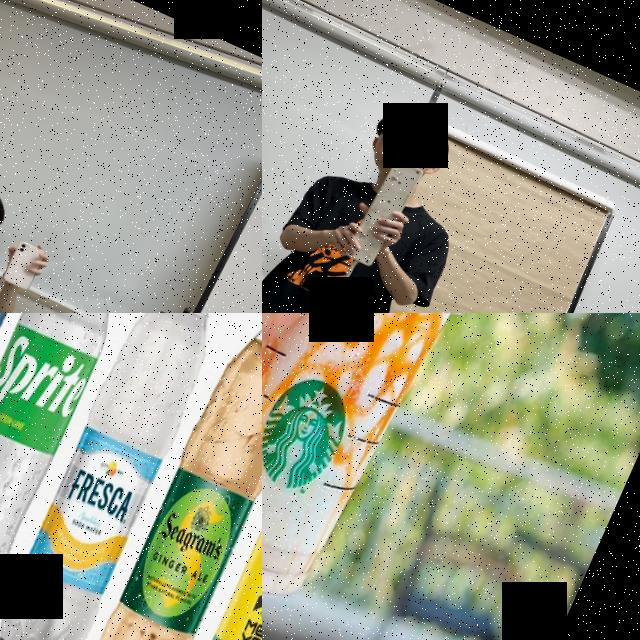bottle: (0, 313, 262, 640), (79, 313, 262, 640), (0, 313, 168, 635), (173, 313, 262, 640), (0, 313, 76, 593)
cup: (262, 313, 529, 627)
